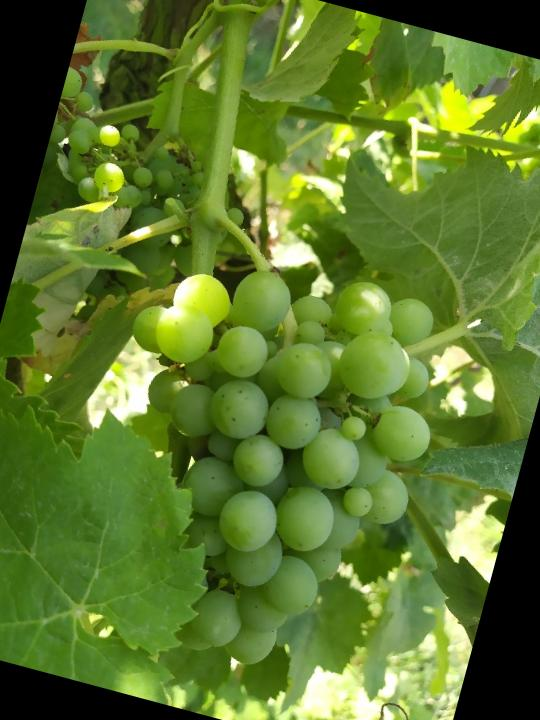grape: (51, 223, 468, 700)
